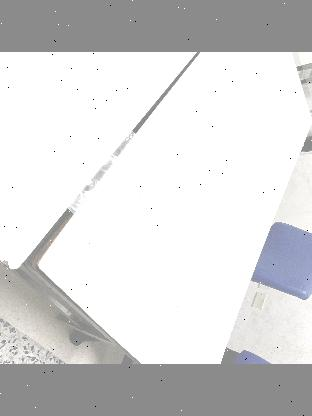Others: (38, 98, 148, 210), (129, 173, 201, 261), (167, 250, 235, 316)
